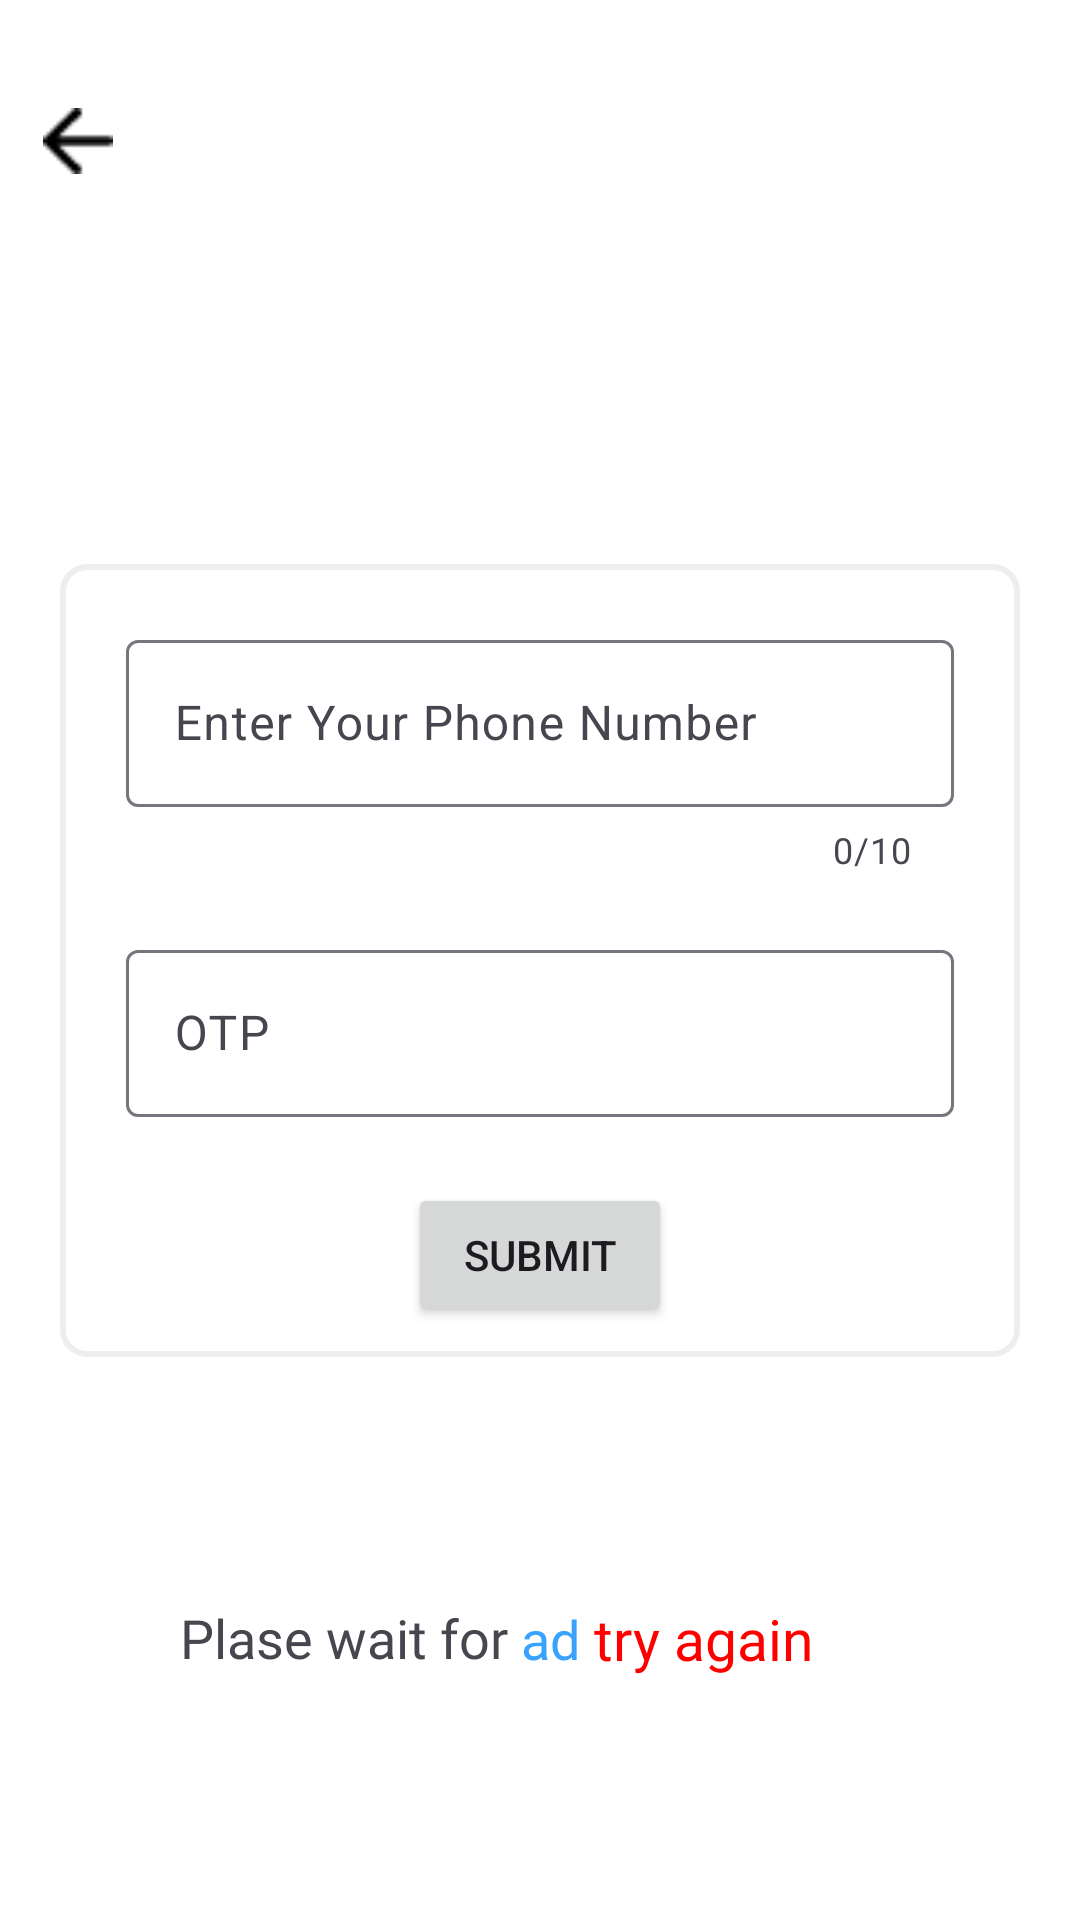

Icon bounding boxes for this 1080 × 1920 phone screenshot, format (x1, y1, x2, y2):
back: (43, 108, 113, 174)
